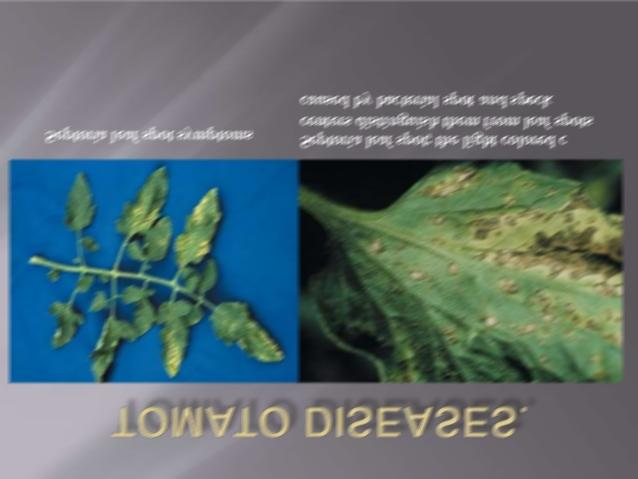Tomato Septoria leaf spot: (313, 164, 619, 377), (208, 290, 286, 371), (114, 166, 190, 240), (167, 189, 225, 272), (152, 291, 196, 380)
